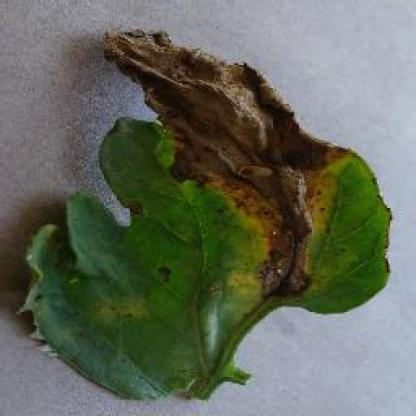Tomato_Blight: (22, 32, 392, 389)
